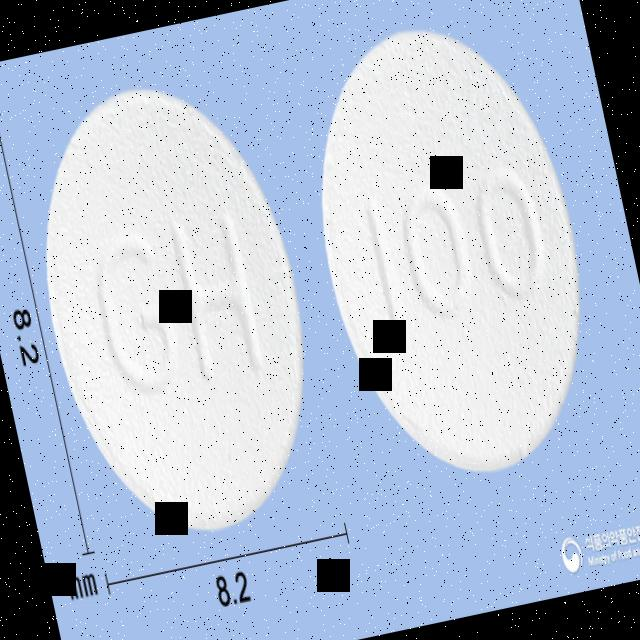Levona -500mg: (5, 62, 342, 557), (284, 2, 618, 498)
